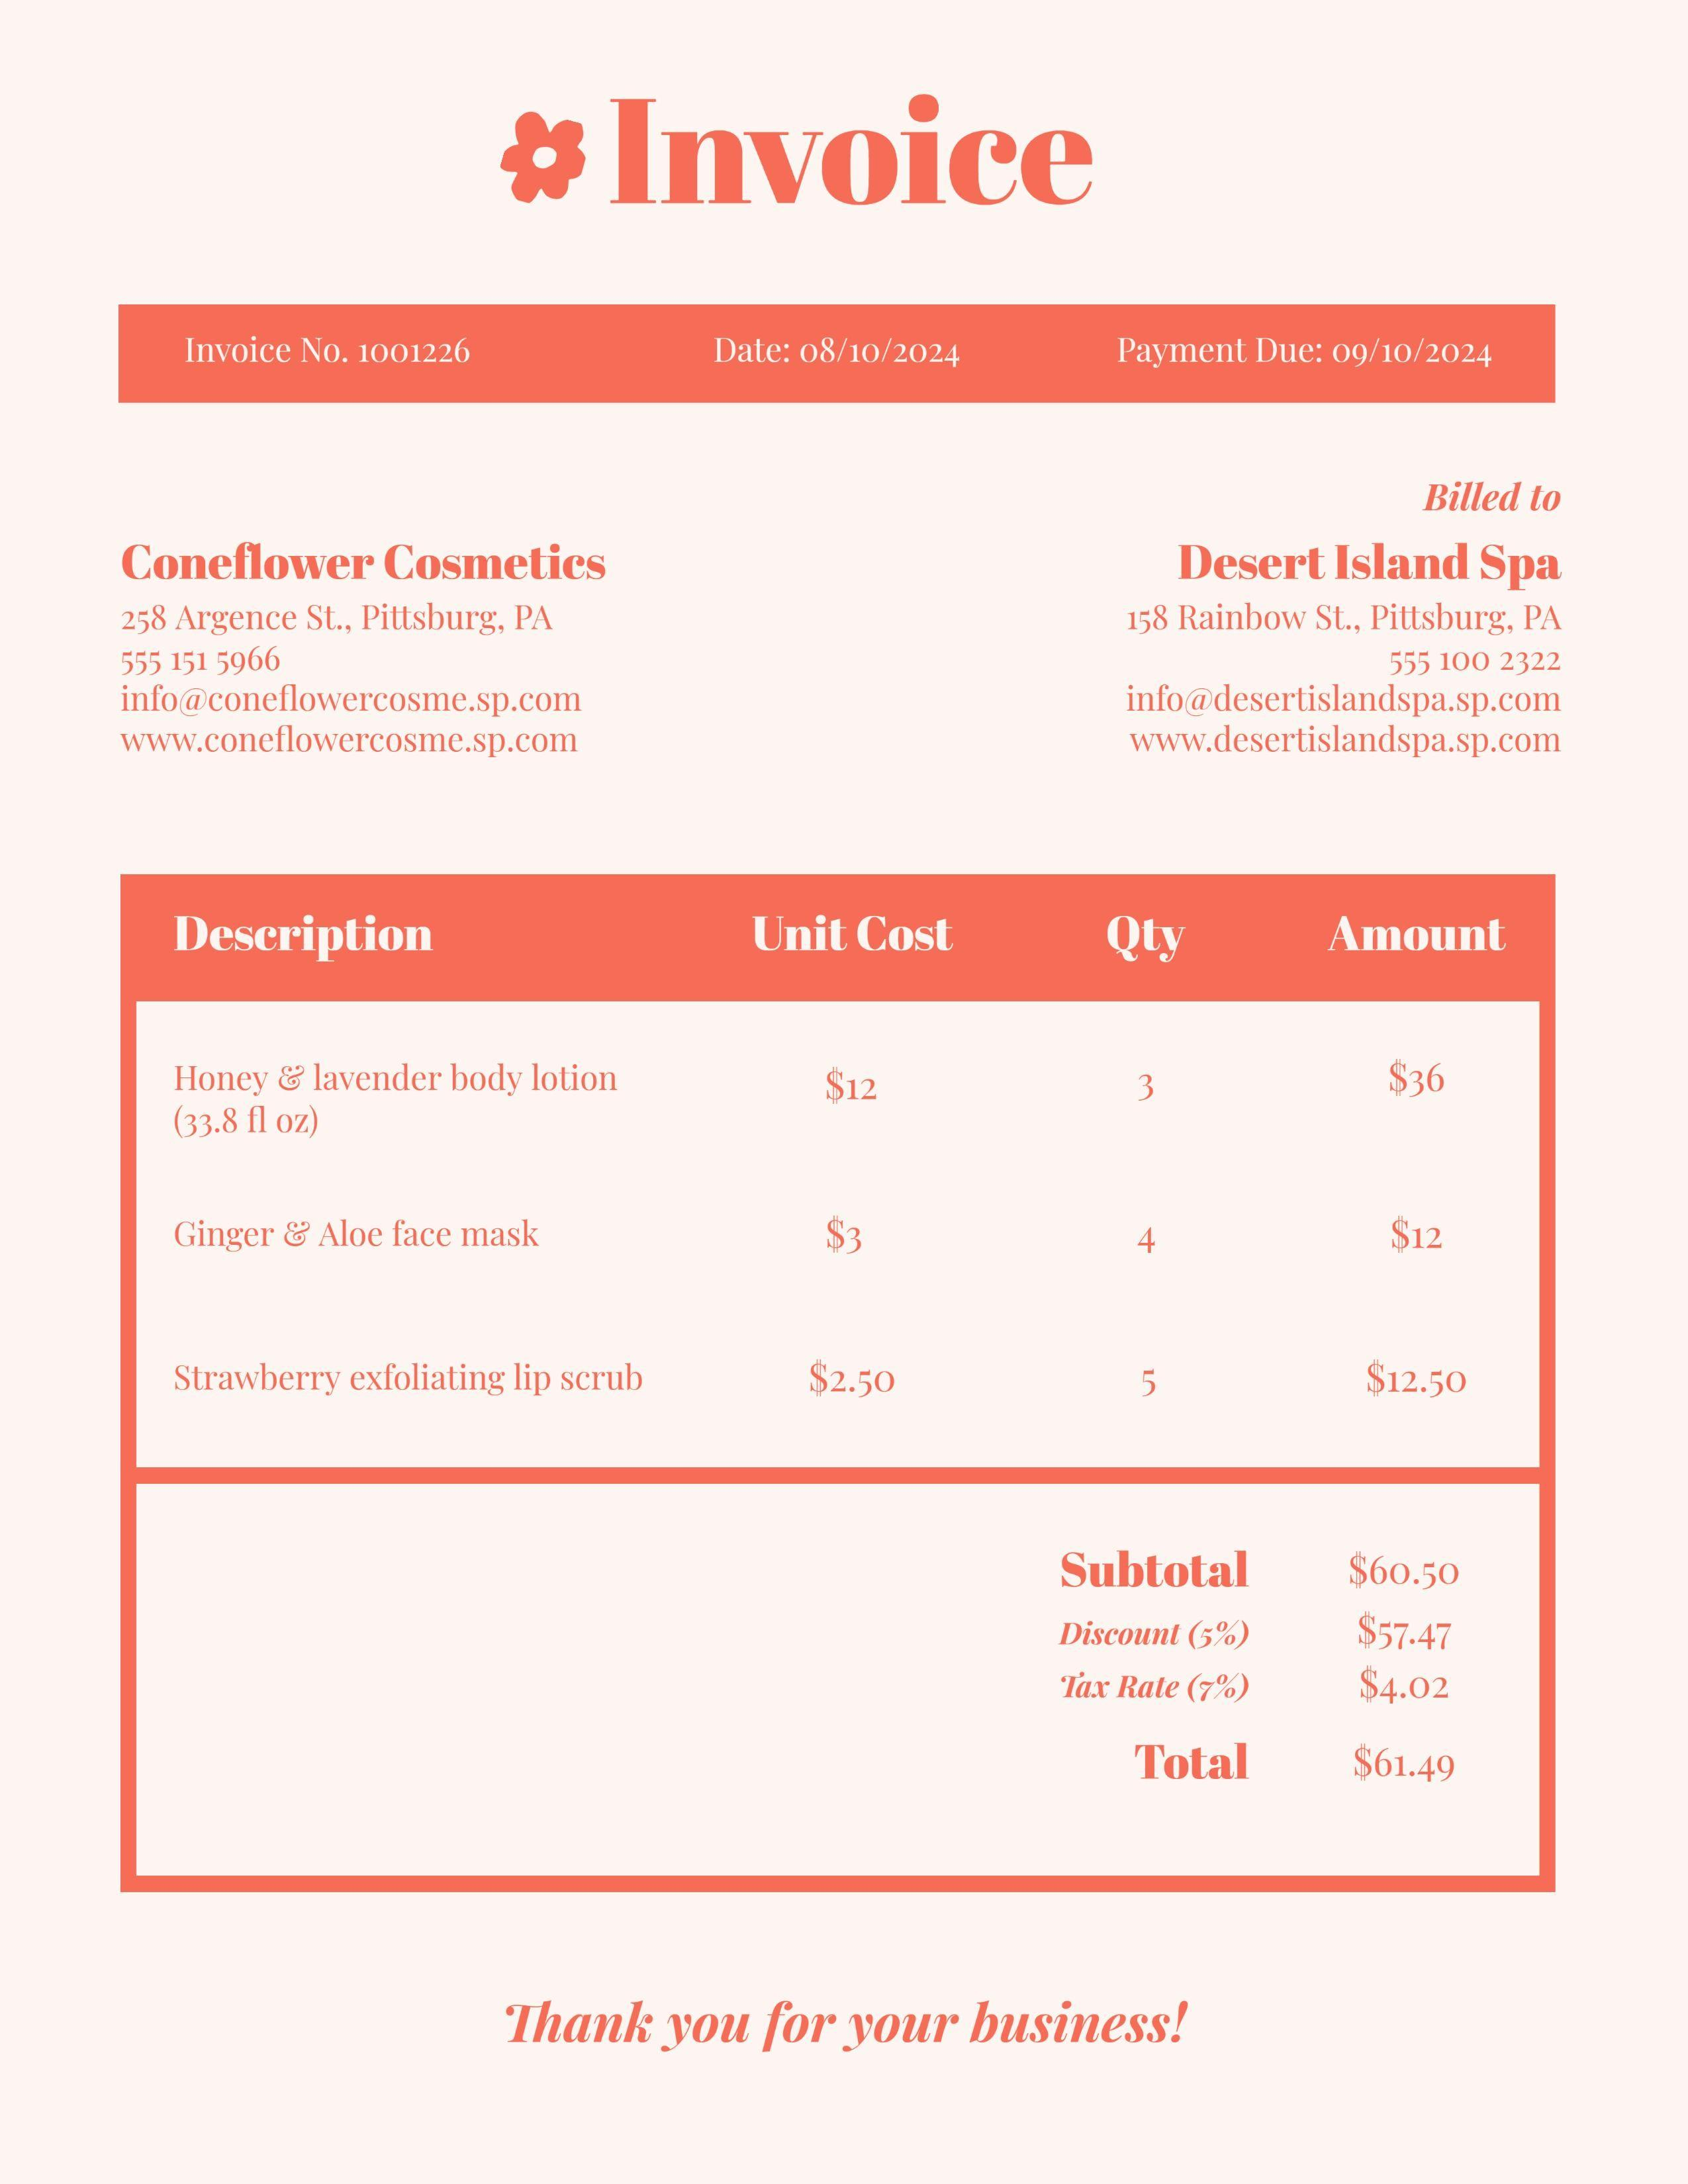ROI: (168, 913, 1505, 1409), (1119, 477, 1569, 782), (117, 534, 608, 760), (1050, 1546, 1479, 1794), (170, 326, 1500, 381)
